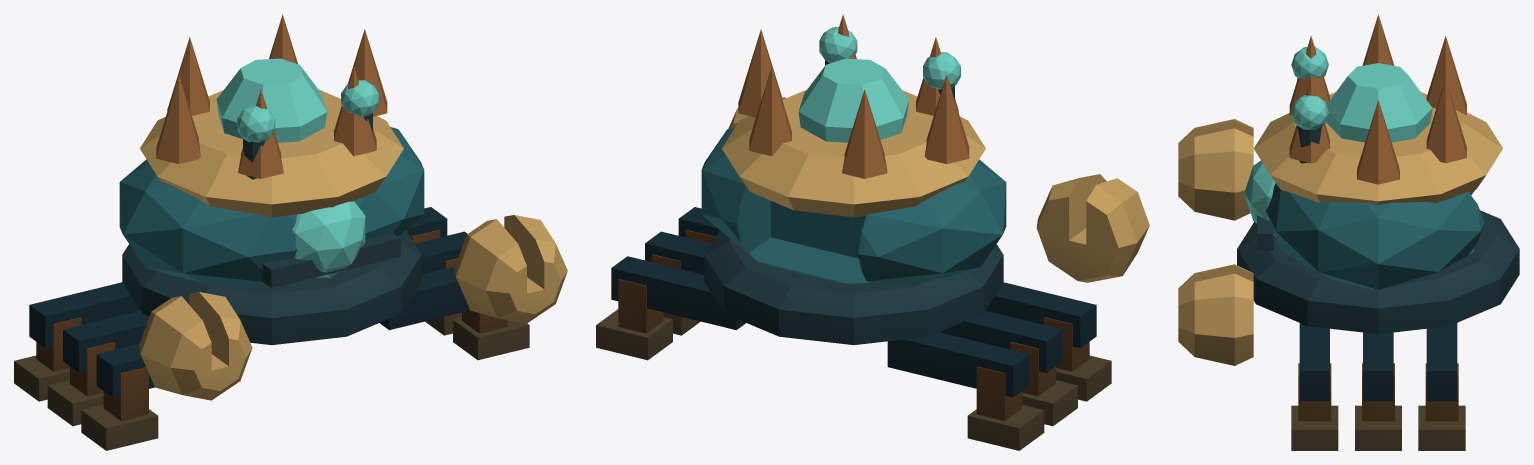
File: models-guardian.glb
The picture shows the model from 3 angles, left to right: view 1: azimuth 30°, elevation 25°; view 2: azimuth 150°, elevation 25°; view 3: azimuth 270°, elevation 25°; orthographic projection. The views are drawn at different scales.
Visible parts, largest first — view 1: geometry_0; view 2: geometry_0; view 3: geometry_0.
Boxes of the visible parts, x1,y1,x2,y2 form: geometry_0: (14,14,567,450); geometry_0: (596,14,1149,450); geometry_0: (1178,14,1519,450).
Size of the model in its own units: 1.96 by 1.39 by 1.45.
